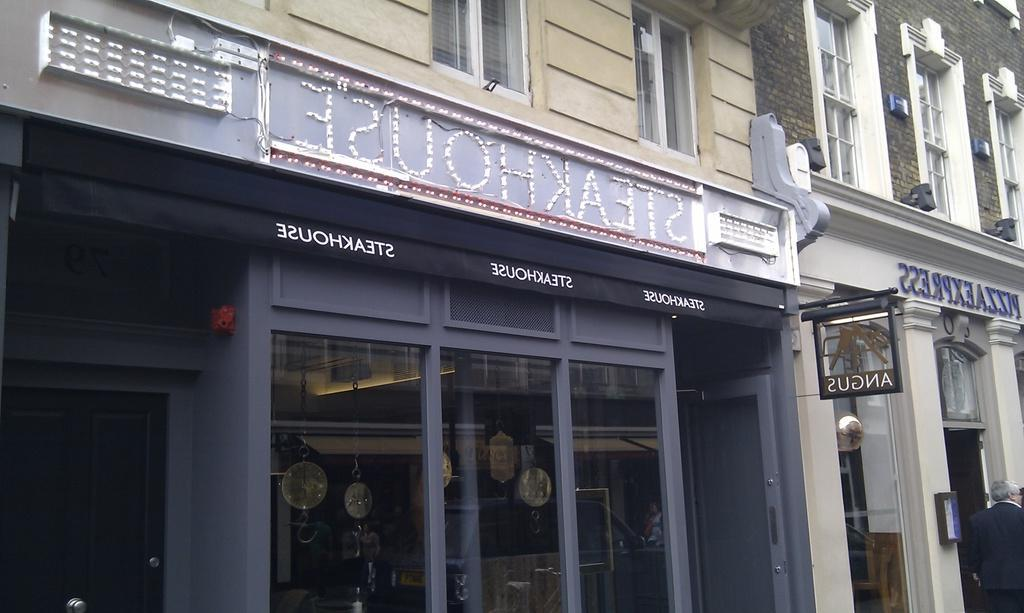door: (0, 399, 169, 613), (695, 379, 771, 613)
handle: (66, 589, 100, 613)
